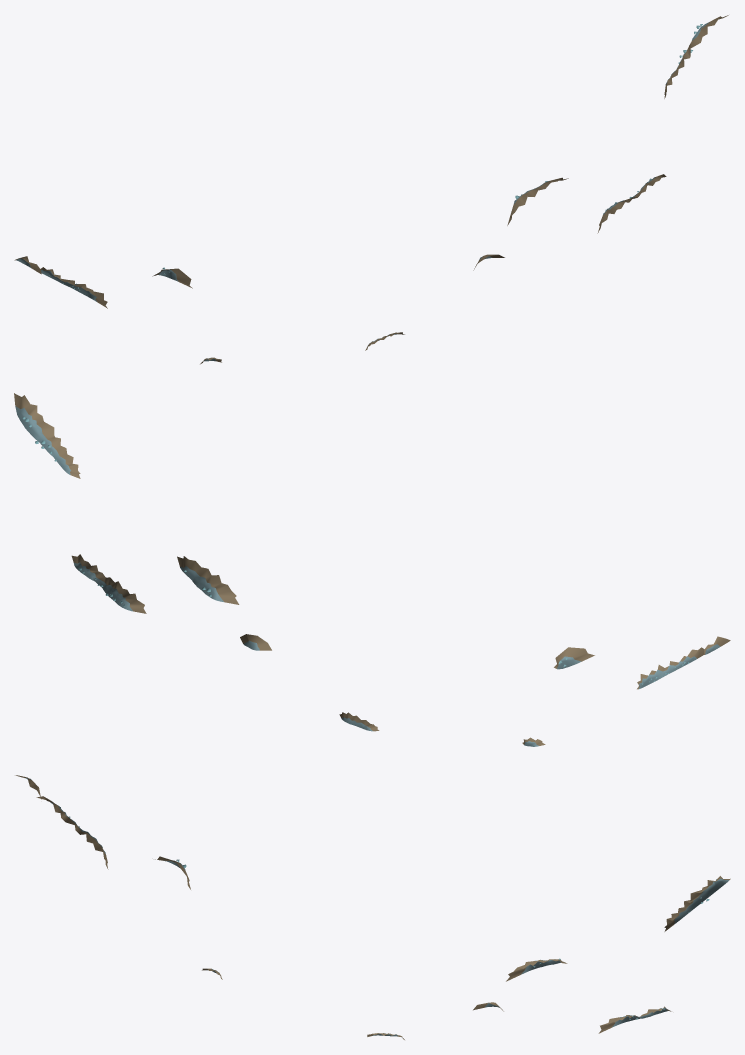
Rendered from distant-view-02.glb.
The picture shows the model from 3 angles, top to bottom: view 1: azimuth 30°, elevation 25°; view 2: azimuth 150°, elevation 25°; view 3: azimuth 330°, elevation 25°; orthographic projection.
Parts seen in each view (by area): view 1: FldDistantView02_node1; view 2: FldDistantView02_node1; view 3: FldDistantView02_node1.
Boxes of the visible parts, x1,y1,x2,y2 form: FldDistantView02_node1: (14, 15, 728, 364); FldDistantView02_node1: (14, 393, 730, 746); FldDistantView02_node1: (15, 775, 730, 1039).
Bounding box in the file's own units: 62.8 × 20.82 × 1.84.
1 material, 1 textured.
